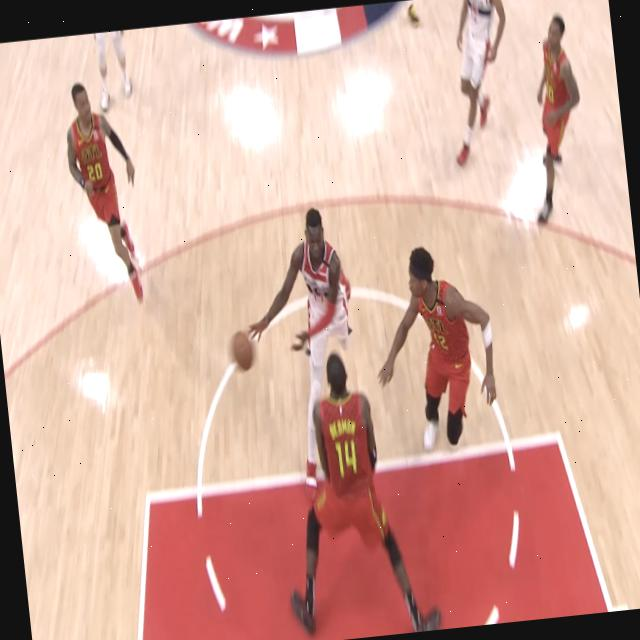no foul: (171, 188, 536, 640)
